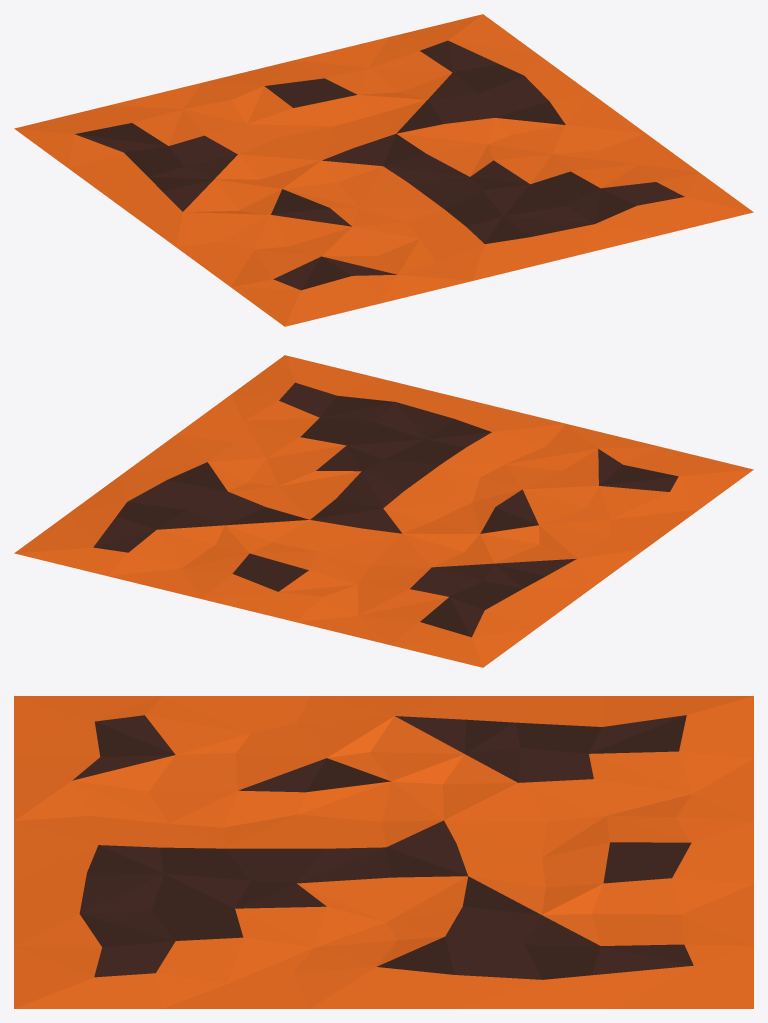
The model's file is ground_lava_b.obj.
3 views of the same model, one above another, from view 1: azimuth 30°, elevation 25°; view 2: azimuth 150°, elevation 25°; view 3: azimuth 270°, elevation 25° (orthographic). The views are drawn at different scales.
Size of the model in its own units: 4 by 0.03 by 4.
